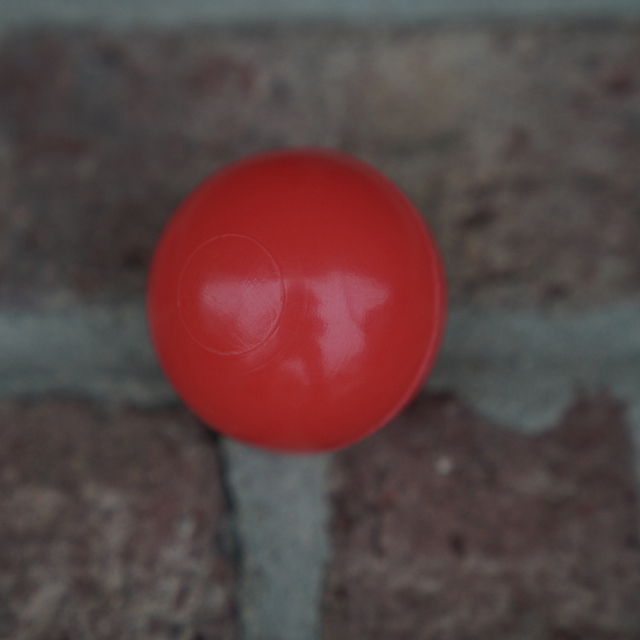Ball: (141, 152, 447, 456)
